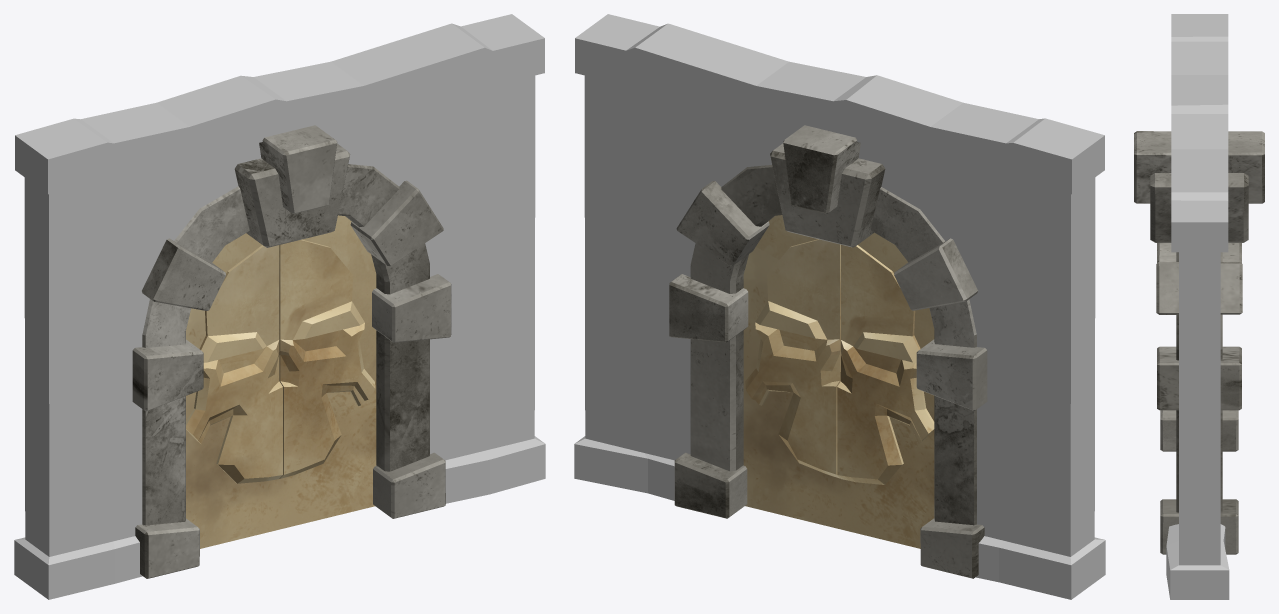
Rendered from Doors_Door.fbx.
3 renders of one model, left to right at view 1: azimuth 30°, elevation 25°; view 2: azimuth 150°, elevation 25°; view 3: azimuth 270°, elevation 25°, orthographic. The views are drawn at different scales.
Parts seen in each view (by area): view 1: Door_Wall, Door_Frame, Left_DoorSide, Right_DoorSide; view 2: Door_Wall, Door_Frame, Left_DoorSide, Right_DoorSide; view 3: Door_Wall, Door_Frame.
Part boxes in pixels (x1,y1,x2,y2): Door_Wall: (14, 14, 545, 599); Door_Frame: (132, 125, 451, 578); Left_DoorSide: (278, 215, 376, 529); Right_DoorSide: (186, 233, 282, 548); Door_Wall: (574, 14, 1105, 599); Door_Frame: (669, 125, 987, 578); Left_DoorSide: (743, 215, 841, 529); Right_DoorSide: (837, 233, 934, 548); Door_Wall: (1166, 14, 1229, 599); Door_Frame: (1134, 131, 1264, 554).
Size of the model in its own units: 8.89 by 7.62 by 2.36.
